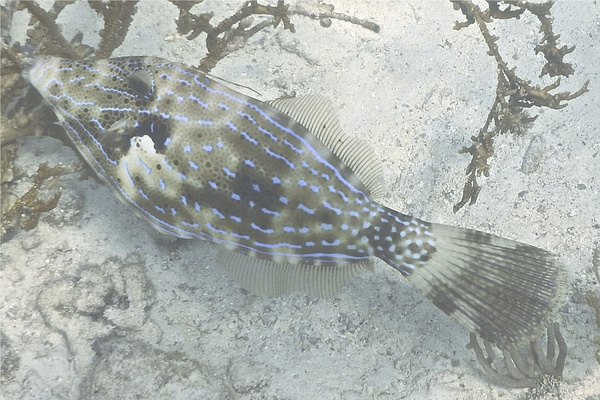Aluterus_scriptus: (27, 47, 570, 351)
